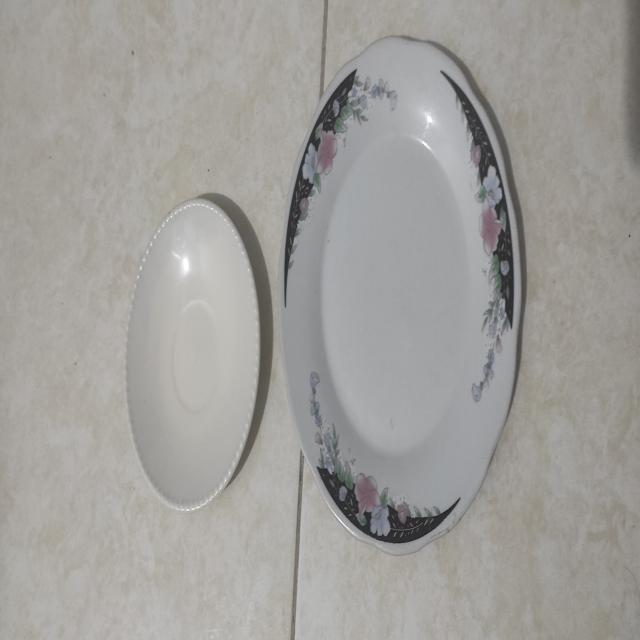ceramic plate: (269, 24, 532, 565), (120, 184, 266, 524)
